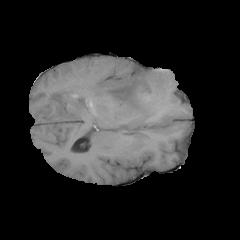glioma: (48, 66, 173, 129)
